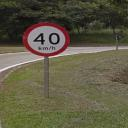speed_limit_40: (23, 22, 71, 56)
